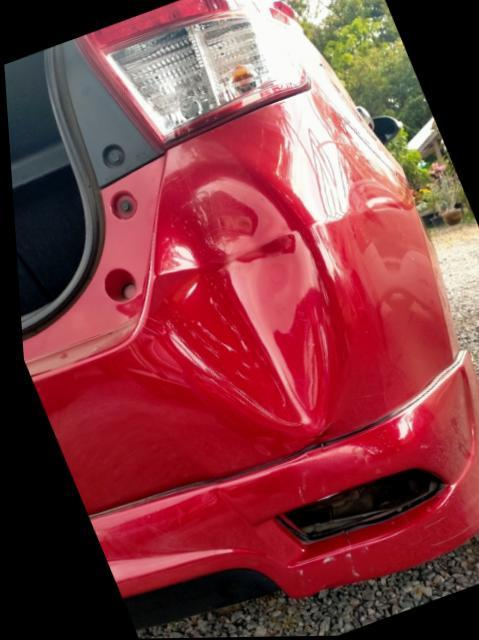dent: (141, 160, 324, 429)
